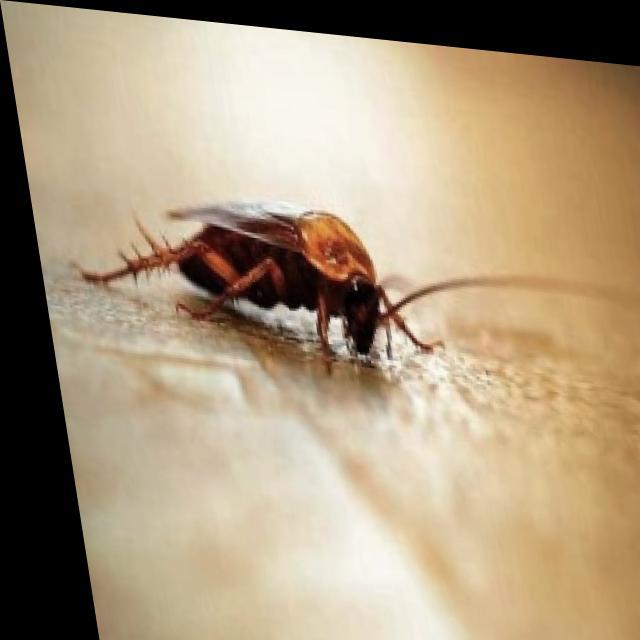cockroach: (96, 170, 462, 368)
